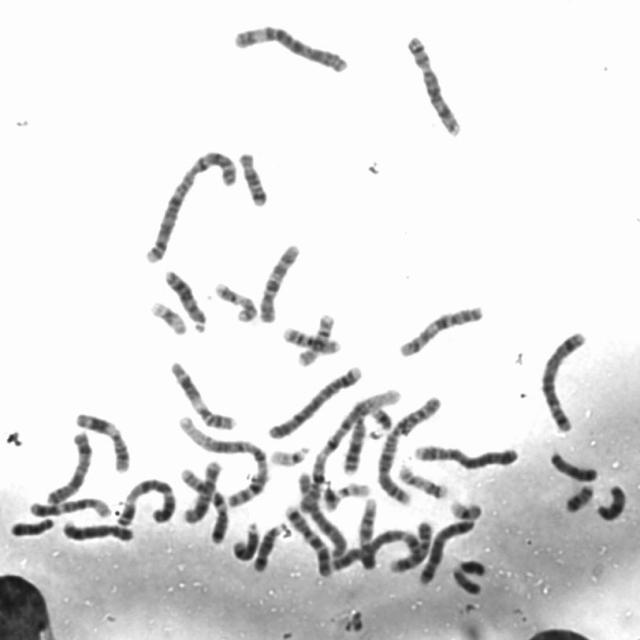A1: (299, 382, 404, 514), (173, 408, 272, 509)
A2: (138, 143, 240, 266), (370, 389, 444, 507)
A3: (326, 522, 430, 573), (112, 471, 178, 528)
B4: (263, 358, 364, 441), (409, 438, 521, 470)
B5: (534, 324, 590, 433), (420, 516, 476, 590)
C10: (394, 298, 486, 359), (254, 236, 302, 325)
C11: (165, 354, 239, 432), (70, 406, 132, 474)
C12: (177, 454, 225, 524), (24, 492, 113, 519)
C6: (229, 17, 352, 75), (293, 466, 349, 560)
C7: (280, 499, 336, 578), (181, 465, 232, 547)
C8: (401, 28, 464, 139), (57, 514, 136, 544)
C9: (384, 514, 435, 576), (354, 492, 381, 570)
D13: (158, 262, 210, 334), (337, 406, 372, 475)
D14: (248, 517, 290, 574), (227, 515, 262, 563)
D15: (544, 445, 600, 484), (591, 478, 630, 522)
E16: (292, 307, 338, 368), (277, 320, 343, 354)
E17: (209, 276, 260, 324), (394, 458, 449, 501)
E18: (233, 146, 270, 208), (4, 512, 56, 538)
F19: (144, 294, 189, 336), (444, 494, 484, 522)
F20: (560, 478, 596, 515), (448, 569, 479, 597)
G21: (364, 399, 396, 439), (318, 478, 341, 512)
G22: (264, 439, 313, 468), (329, 475, 373, 502)
X: (40, 425, 94, 507)
Y: (452, 550, 490, 582)
